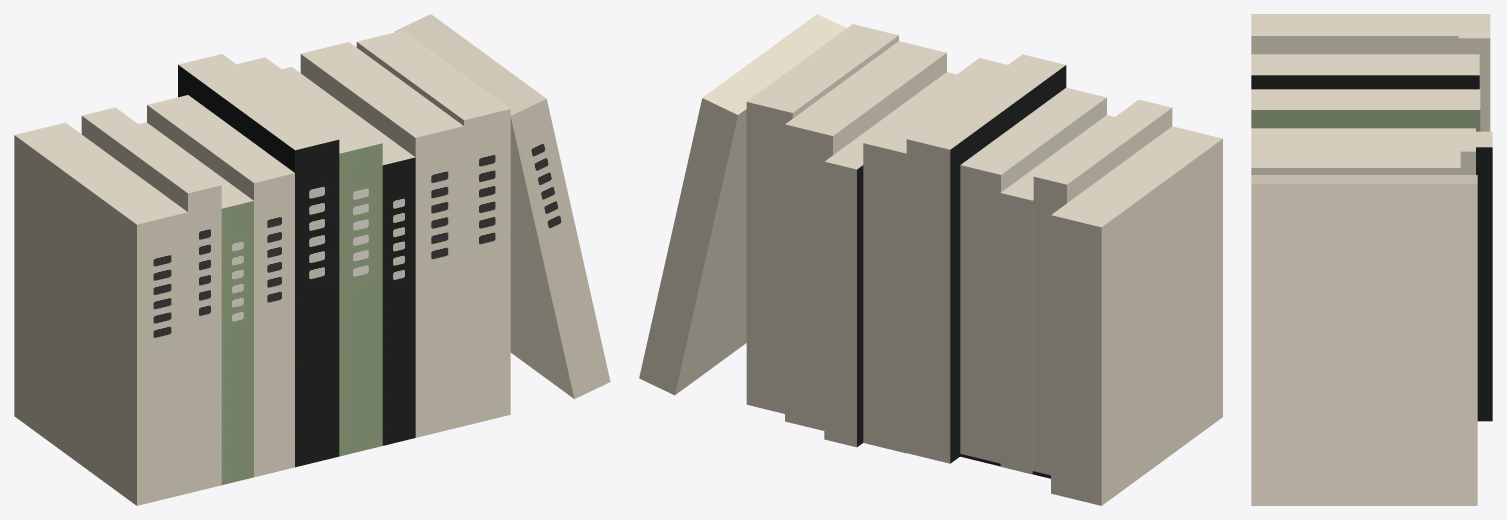
The model's file is obj-books-modern-row.glb.
3 views of the same model, side by side, from view 1: azimuth 30°, elevation 25°; view 2: azimuth 150°, elevation 25°; view 3: azimuth 270°, elevation 25° (orthographic). The views are drawn at different scales.
Visible parts, largest first — view 1: obj-books-modern-row; view 2: obj-books-modern-row; view 3: obj-books-modern-row.
Boxes of the visible parts, bbox=[...] form: obj-books-modern-row: bbox=[14, 14, 610, 505]; obj-books-modern-row: bbox=[639, 14, 1222, 505]; obj-books-modern-row: bbox=[1251, 14, 1492, 505].
Size of the model in its own units: 0.3619 by 0.2314 by 0.1636.
2 materials, 1 textured.
